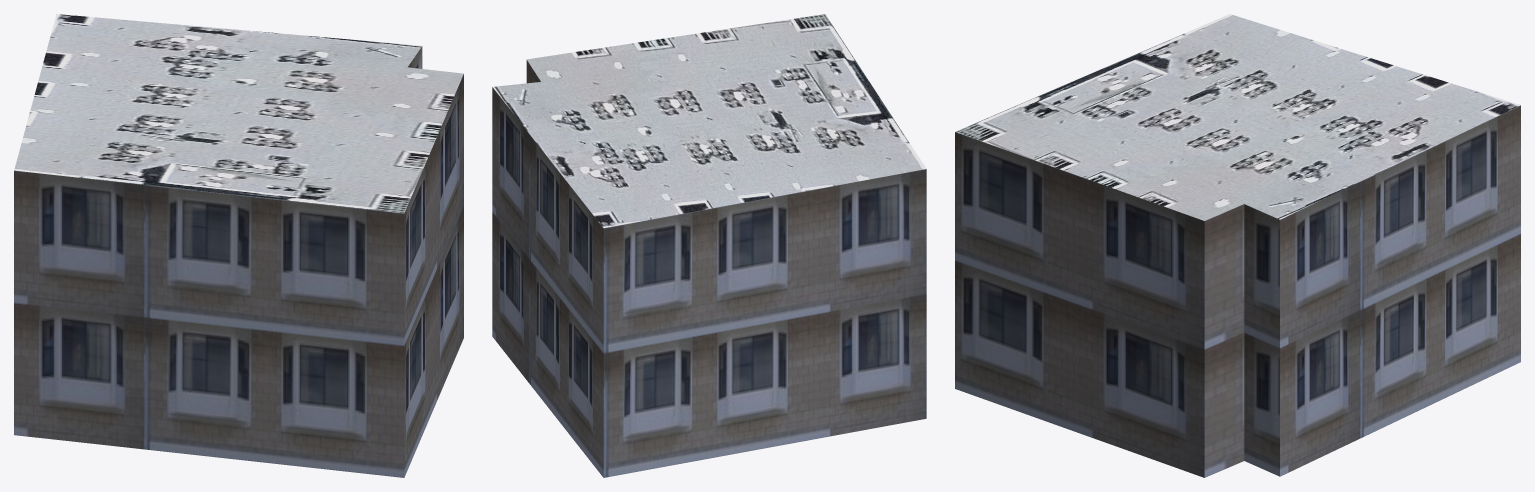
File: ResTex__1739.fbx
3 views of the same model, side by side, from view 1: azimuth 30°, elevation 25°; view 2: azimuth 150°, elevation 25°; view 3: azimuth 270°, elevation 25° (orthographic). The views are drawn at different scales.
Parts seen in each view (by area): view 1: CityEngineMaterial_3_m, CityEngineMaterial_4_m; view 2: CityEngineMaterial_3_m, CityEngineMaterial_4_m; view 3: CityEngineMaterial_3_m, CityEngineMaterial_4_m.
Part boxes in pixels (<box>): CityEngineMaterial_3_m: <box>14,46,463,477</box>; CityEngineMaterial_4_m: <box>14,14,463,213</box>; CityEngineMaterial_3_m: <box>492,60,926,477</box>; CityEngineMaterial_4_m: <box>493,14,926,227</box>; CityEngineMaterial_3_m: <box>955,105,1520,477</box>; CityEngineMaterial_4_m: <box>955,14,1520,220</box>.
Bounding box in the file's own units: 10.37 × 6 × 11.98.
2 materials, 2 textured.
